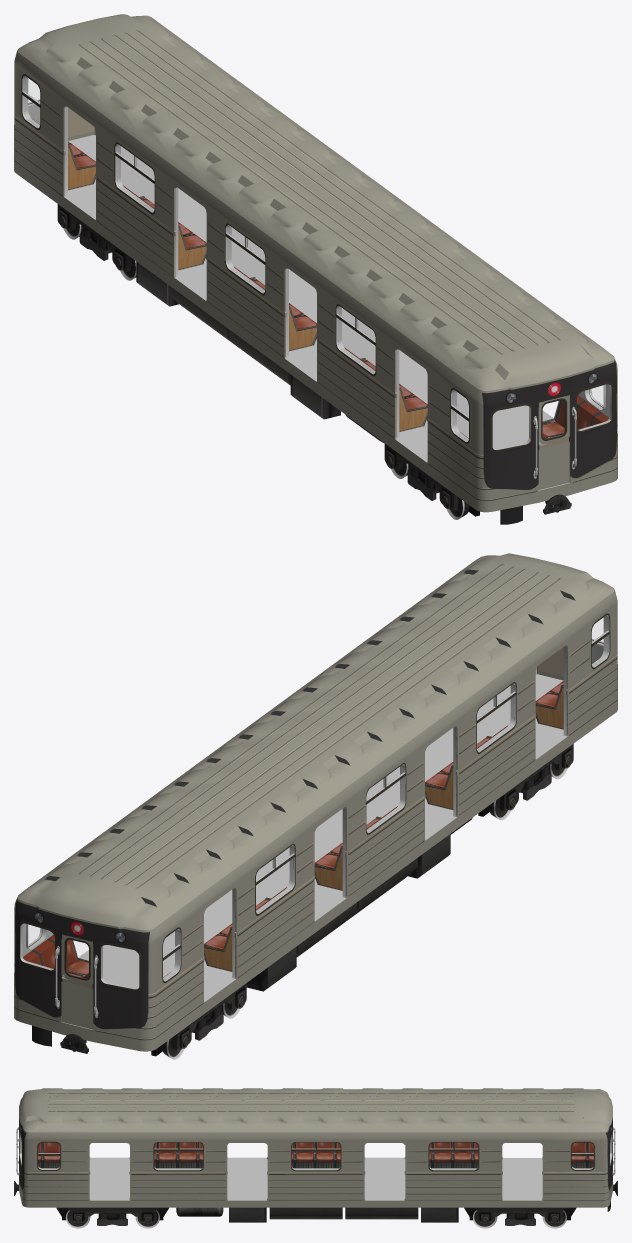
File: SubwayTrain04_Body2.FBX
3 renders of one model, top to bottom at view 1: azimuth 30°, elevation 25°; view 2: azimuth 150°, elevation 25°; view 3: azimuth 270°, elevation 25°, orthographic. The views are drawn at different scales.
Parts seen in each view (by area): view 1: SubwayTrain04_Roof, SubwayTrain04_Body1, SubwayTrain04_Inter, SubwayTrain04_Wheels, SubwayTrain_Bench02aa, SubwayTrain_Bench02a, SubwayTrain04_DoorF1; view 2: SubwayTrain04_Roof, SubwayTrain04_Body1, SubwayTrain04_Inter, SubwayTrain04_Wheels, SubwayTrain_Bench02aa, SubwayTrain_Bench02a, SubwayTrain04_DoorF2; view 3: SubwayTrain04_Body1, SubwayTrain04_Roof, SubwayTrain04_Inter, SubwayTrain04_Wheels, SubwayTrain_Bench02a, SubwayTrain04_Inter2.
Part boxes in pixels (x1=…): SubwayTrain04_Roof: x1=17, y1=14, x2=614, y2=391; SubwayTrain04_Body1: x1=14, y1=50, x2=617, y2=512; SubwayTrain04_Inter: x1=22, y1=76, x2=611, y2=490; SubwayTrain04_Wheels: x1=57, y1=204, x2=571, y2=524; SubwayTrain_Bench02aa: x1=68, y1=145, x2=559, y2=431; SubwayTrain_Bench02a: x1=31, y1=118, x2=608, y2=438; SubwayTrain04_DoorF1: x1=538, y1=396, x2=569, y2=489; SubwayTrain04_Roof: x1=17, y1=553, x2=614, y2=930; SubwayTrain04_Body1: x1=14, y1=590, x2=617, y2=1051; SubwayTrain04_Inter: x1=20, y1=615, x2=609, y2=1029; SubwayTrain04_Wheels: x1=32, y1=744, x2=573, y2=1059; SubwayTrain_Bench02aa: x1=72, y1=685, x2=563, y2=971; SubwayTrain_Bench02a: x1=23, y1=658, x2=599, y2=978; SubwayTrain04_DoorF2: x1=61, y1=935, x2=93, y2=1029; SubwayTrain04_Body1: x1=19, y1=1117, x2=612, y2=1207; SubwayTrain04_Roof: x1=19, y1=1088, x2=612, y2=1132; SubwayTrain04_Inter: x1=19, y1=1133, x2=612, y2=1200; SubwayTrain04_Wheels: x1=14, y1=1181, x2=617, y2=1228; SubwayTrain_Bench02a: x1=38, y1=1142, x2=593, y2=1168; SubwayTrain04_Inter2: x1=16, y1=1127, x2=615, y2=1176.
Bounding box in the file's own units: 4082 × 4898 × 24396.
